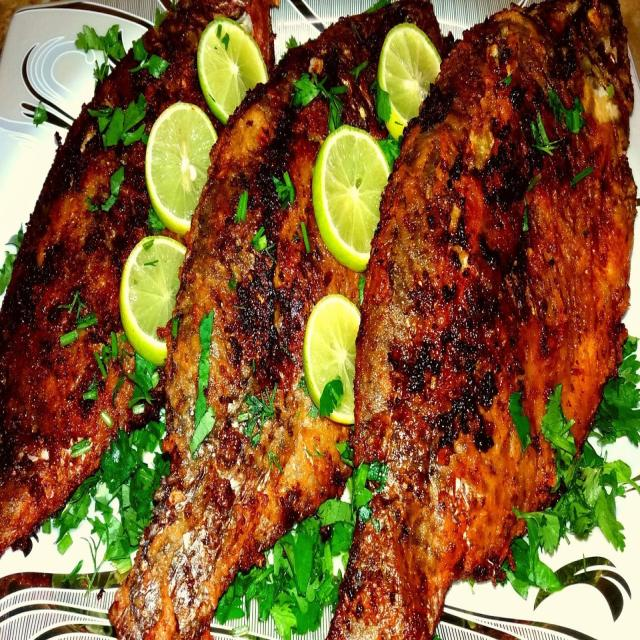Peixe: (106, 1, 452, 638), (324, 1, 637, 638), (1, 0, 277, 557)
